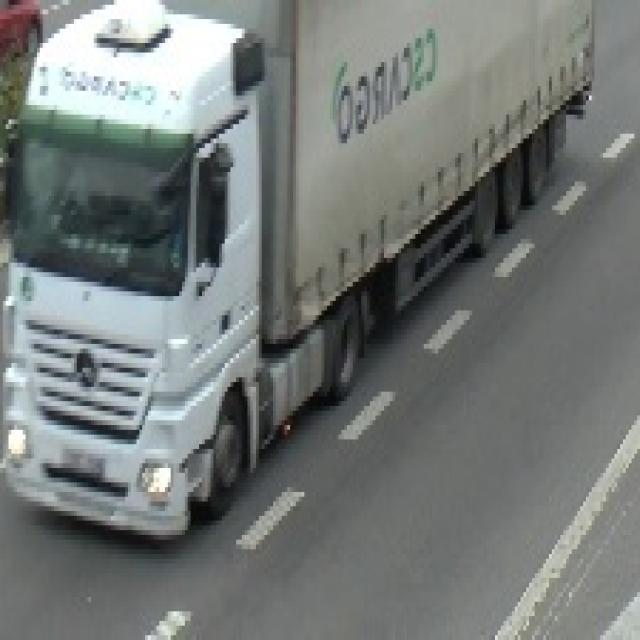TRUCK: (0, 0, 600, 540)
